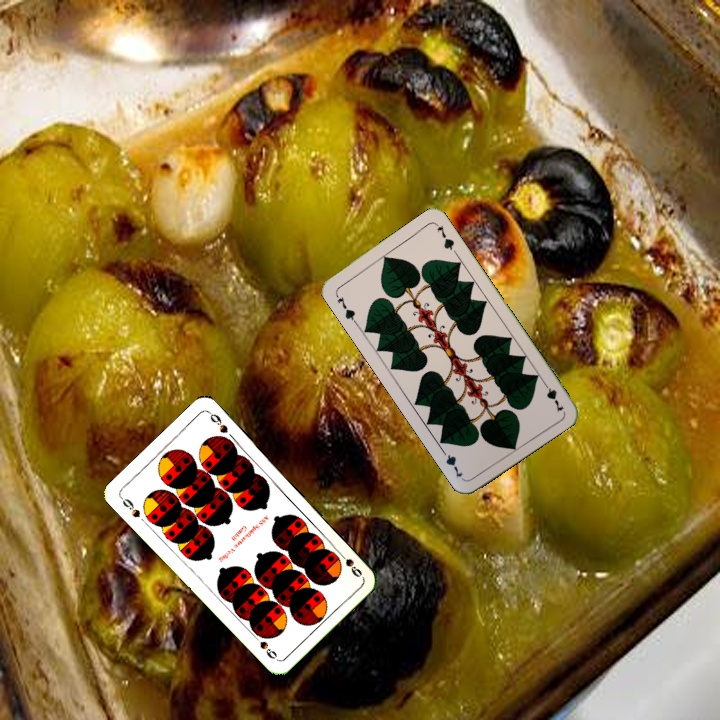G7: (539, 377, 566, 415), (331, 290, 359, 326)
S9: (333, 546, 365, 580), (116, 493, 143, 520)
